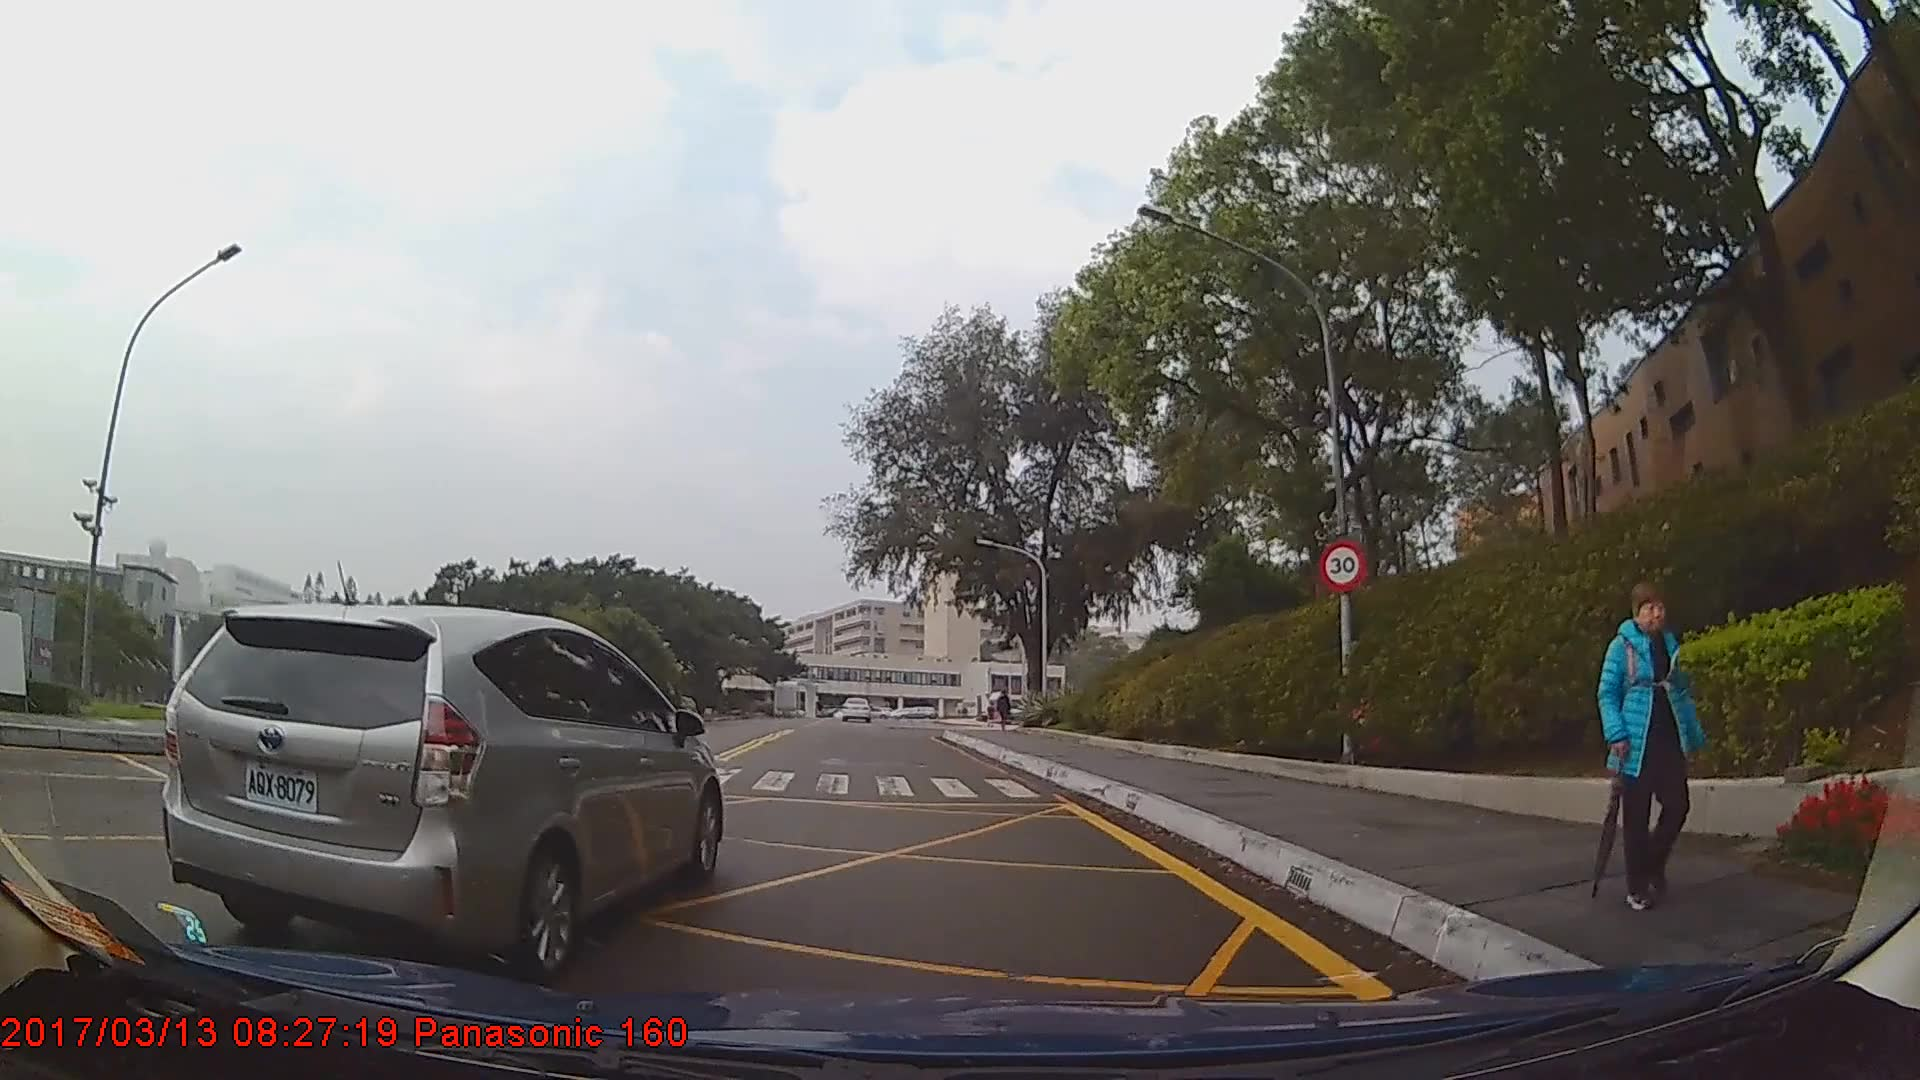pedestrian: (1603, 574, 1710, 912), (996, 689, 1016, 733)
vehicle: (158, 601, 719, 964), (840, 695, 871, 722)
